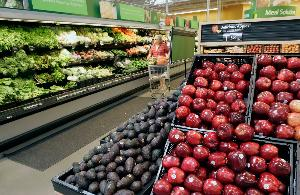apple: (170, 130, 289, 195), (175, 55, 249, 127), (255, 46, 300, 142)
avocado: (70, 100, 170, 194)
